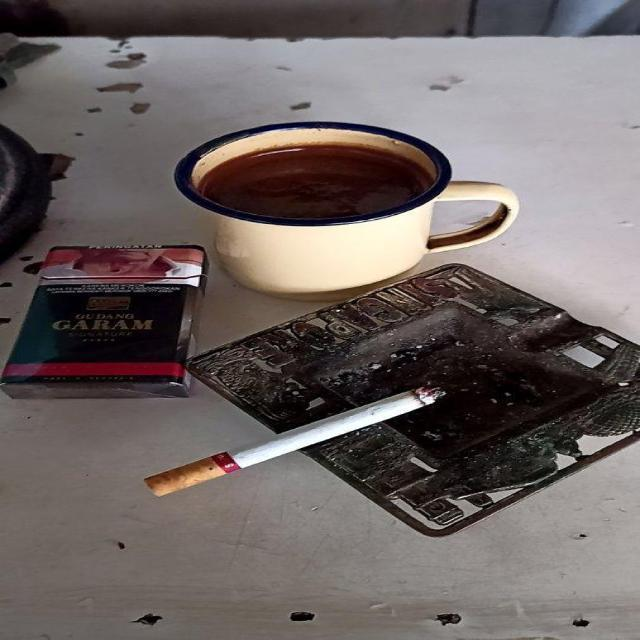rokok: (143, 378, 447, 504)
